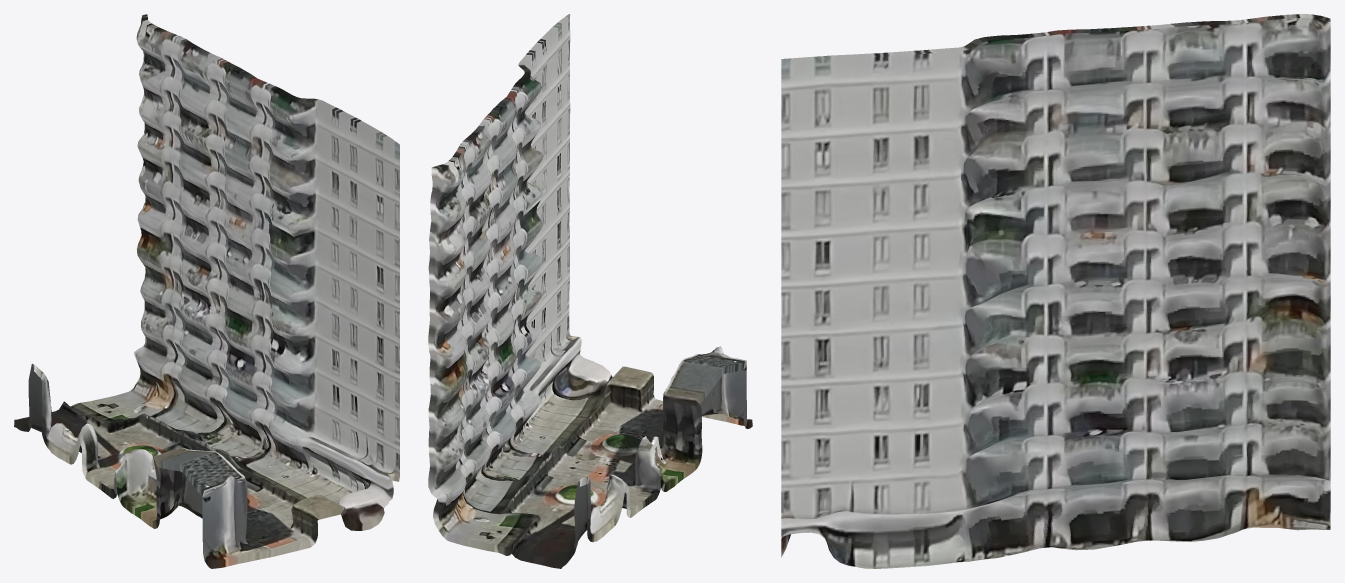
The model's file is z20-167778-405216-h0-yup-uvflip-v3-world.glb.
3 views of the same model, side by side, from view 1: azimuth 30°, elevation 25°; view 2: azimuth 150°, elevation 25°; view 3: azimuth 270°, elevation 25° (orthographic). The views are drawn at different scales.
Size of the model in its own units: 16.8 by 32.44 by 30.32.
1 material, 1 textured.
